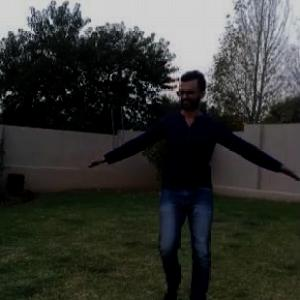land: (59, 43, 299, 299)
